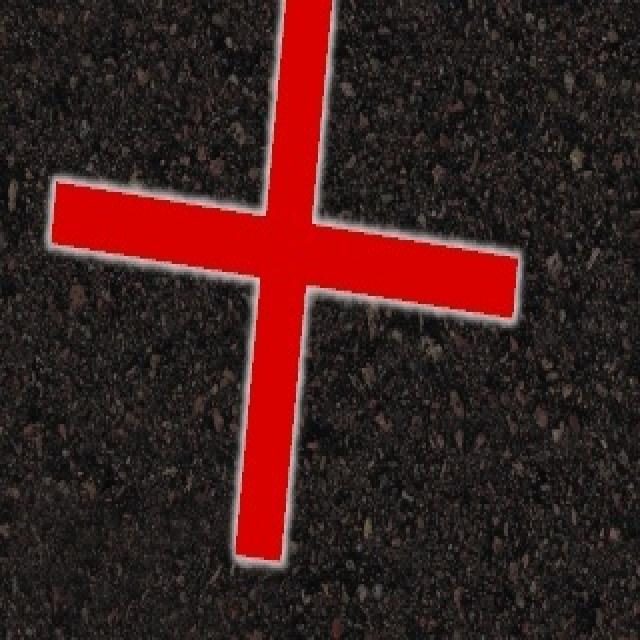x_marker: (49, 0, 517, 563)
